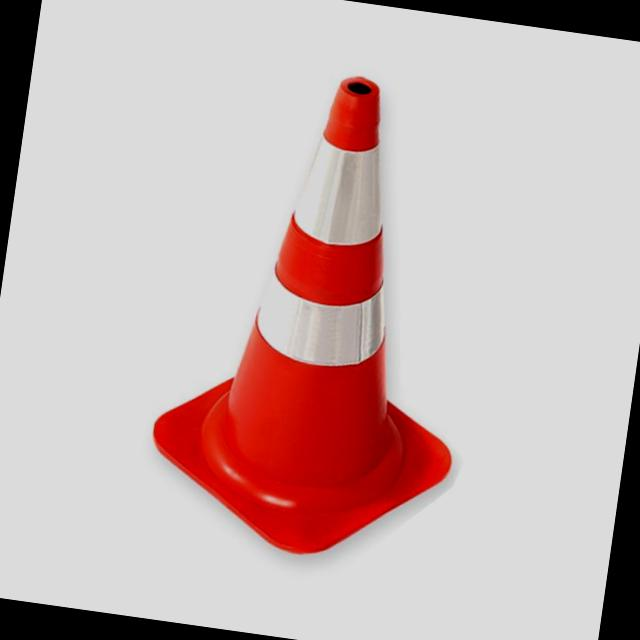cone: (126, 54, 512, 573)
